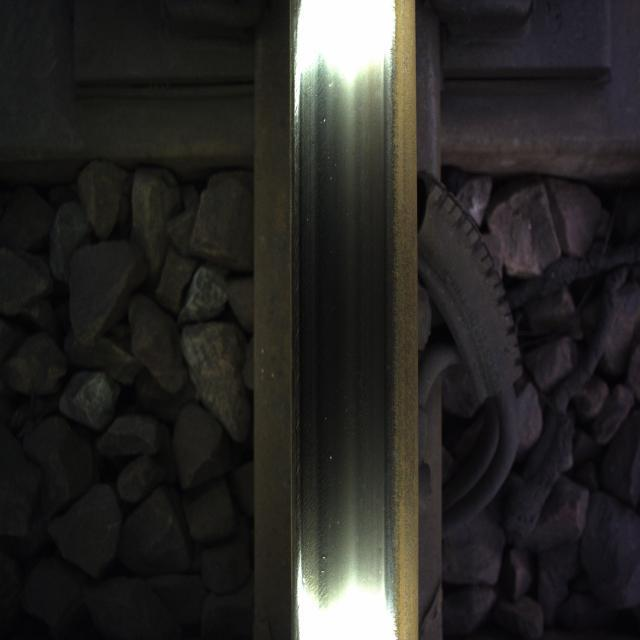normal: (296, 51, 400, 605)
